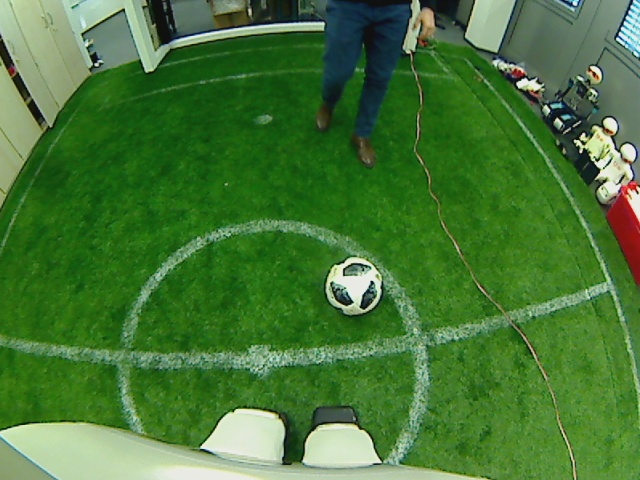ball: (327, 256, 382, 316)
